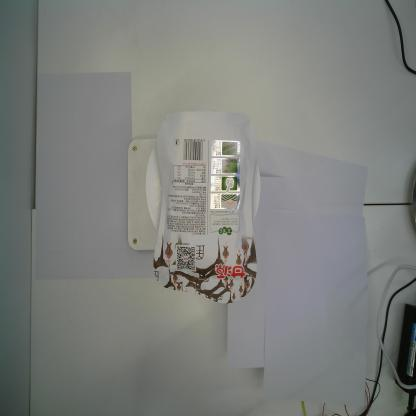Dried Fruit: (153, 110, 258, 304)
